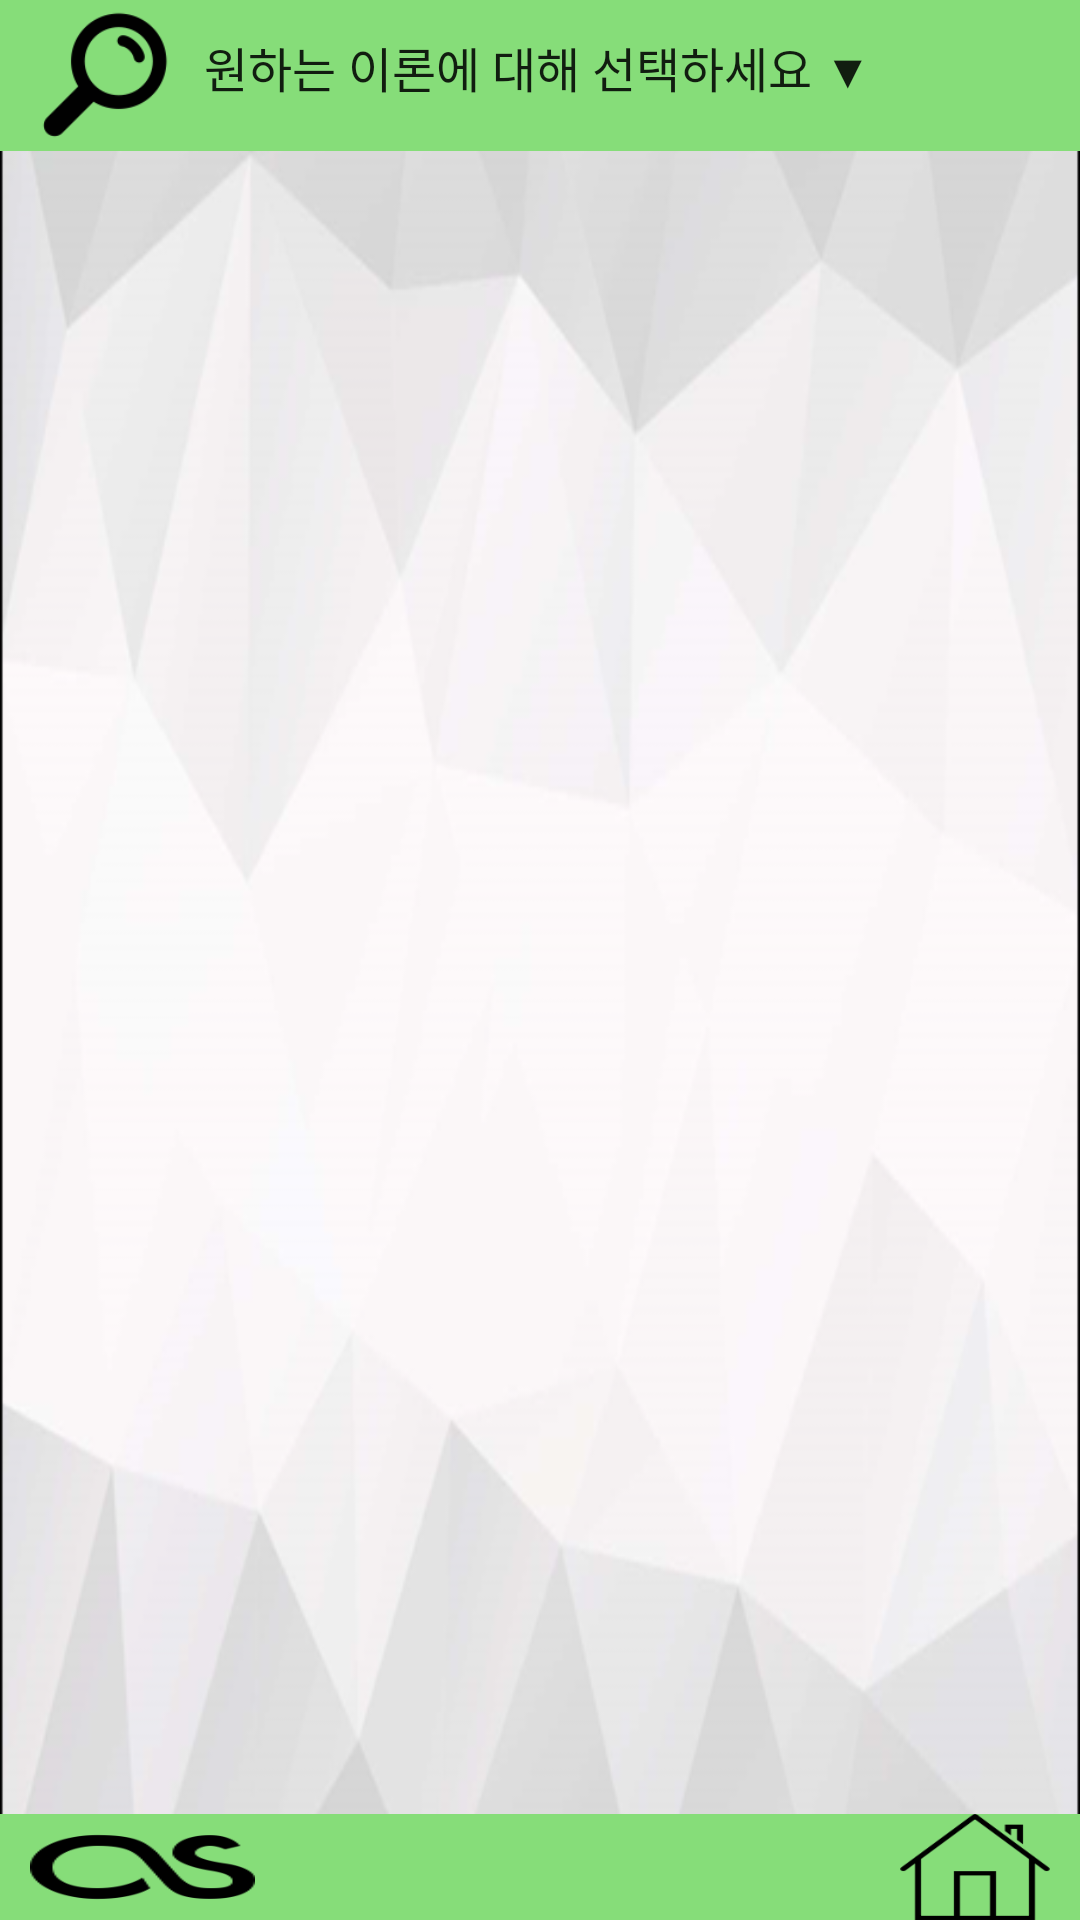

Screen size 1080*1920. Icon name, then its center in pixels as [x,y]:
home: [975,1867]
search: [105,75]
